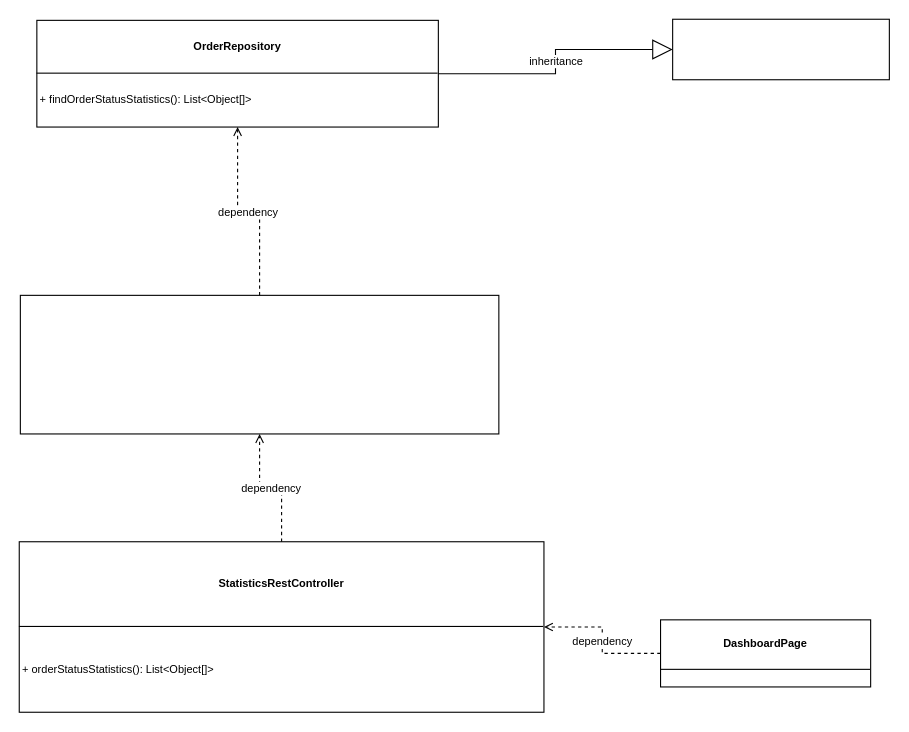
The diagram is 909 pixels wide and 732 high, and some of its shapes have lost their labels. Here are the shapes that lost their labels. From the top down, the centre of each, then its label:
At point 780,49: "JpaRepository".
At point 259,364: "StatisticsService + getOrderStatusStatistics(): List<Object[]>".
